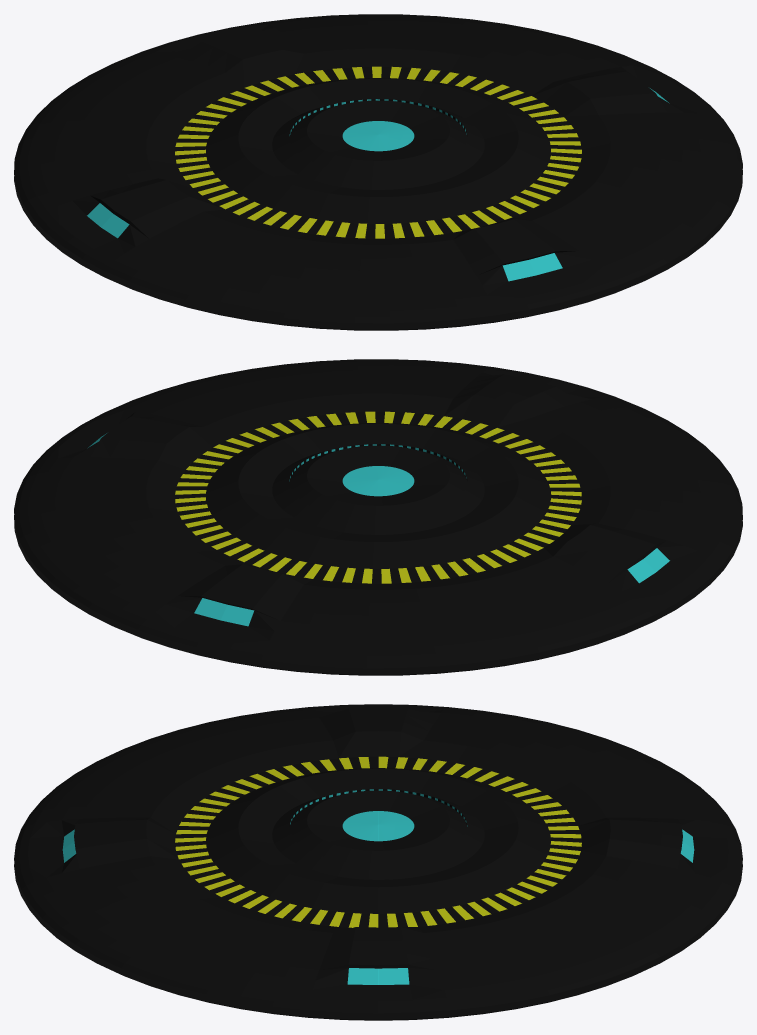
Rendered from Mothership.obj.
3 renders of one model, top to bottom at view 1: azimuth 30°, elevation 25°; view 2: azimuth 150°, elevation 25°; view 3: azimuth 270°, elevation 25°, orthographic.
Parts seen in each view (by area): view 1: MotherShip; view 2: MotherShip; view 3: MotherShip.
Part boxes in pixels (left/top/right/bottom): MotherShip: left=14, top=14, right=742, bottom=330; MotherShip: left=14, top=359, right=742, bottom=675; MotherShip: left=14, top=704, right=742, bottom=1020.
Size of the model in its own units: 199 by 24.08 by 199.
